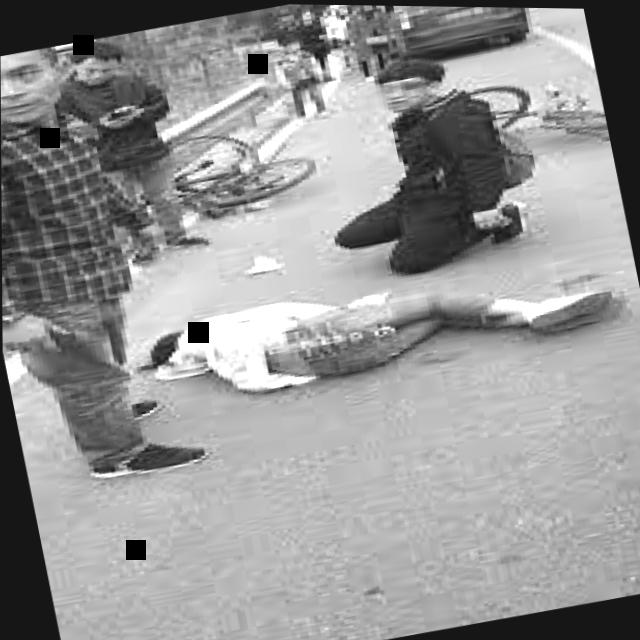Fall-Detected: (132, 217, 640, 425)
